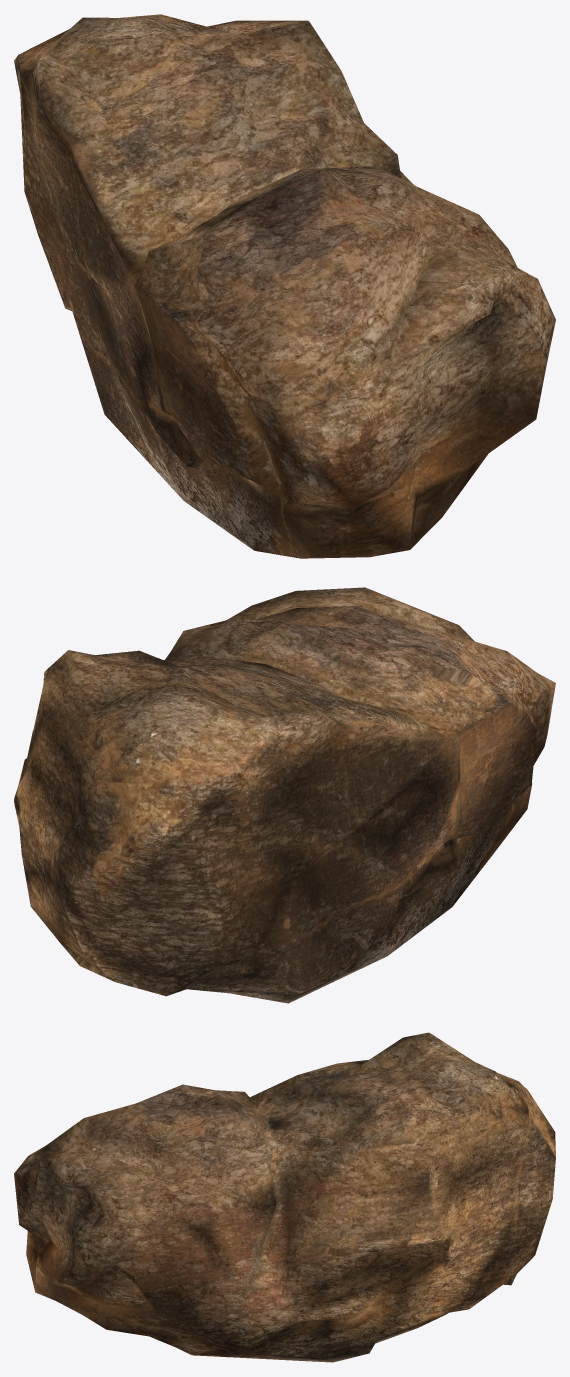
Rendered from desert_boulder_brown_lod1.glb.
The picture shows the model from 3 angles, top to bottom: view 1: azimuth 30°, elevation 25°; view 2: azimuth 150°, elevation 25°; view 3: azimuth 270°, elevation 25°; orthographic projection. The views are drawn at different scales.
Parts seen in each view (by area): view 1: namaqualand_boulder_06; view 2: namaqualand_boulder_06; view 3: namaqualand_boulder_06.
Boxes of the visible parts, bbox=[...] form: namaqualand_boulder_06: bbox=[14, 14, 555, 558]; namaqualand_boulder_06: bbox=[14, 587, 555, 1003]; namaqualand_boulder_06: bbox=[14, 1032, 555, 1362].
Size of the model in its own units: 0.6614 by 0.642 by 1.21.
1 material, 1 textured.
